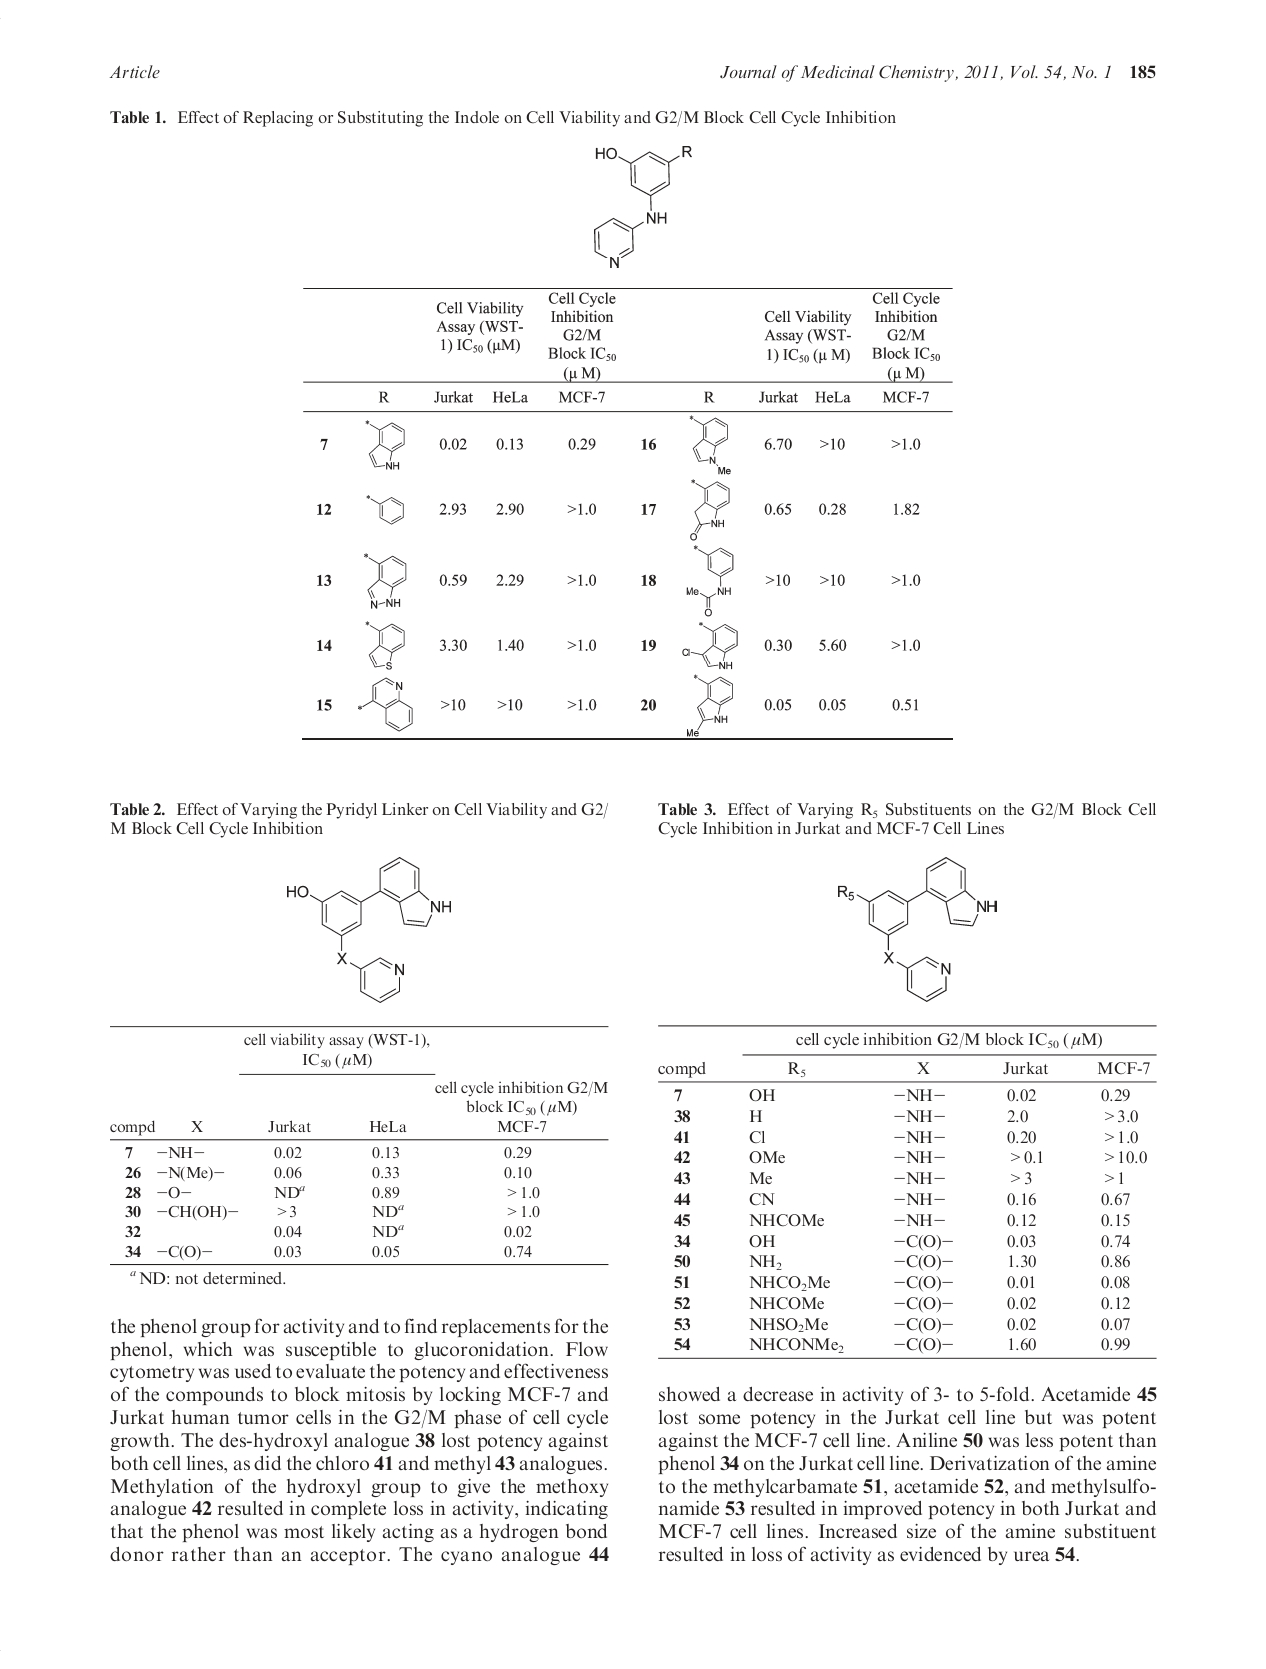exist_molecular: (835, 852, 1000, 1004), (285, 856, 453, 1001), (589, 141, 694, 271), (684, 544, 735, 616), (356, 676, 416, 731), (682, 414, 735, 475), (684, 674, 735, 737), (688, 477, 737, 543), (680, 621, 739, 672), (362, 551, 410, 610), (362, 416, 411, 473), (362, 617, 407, 672), (362, 489, 411, 528)
